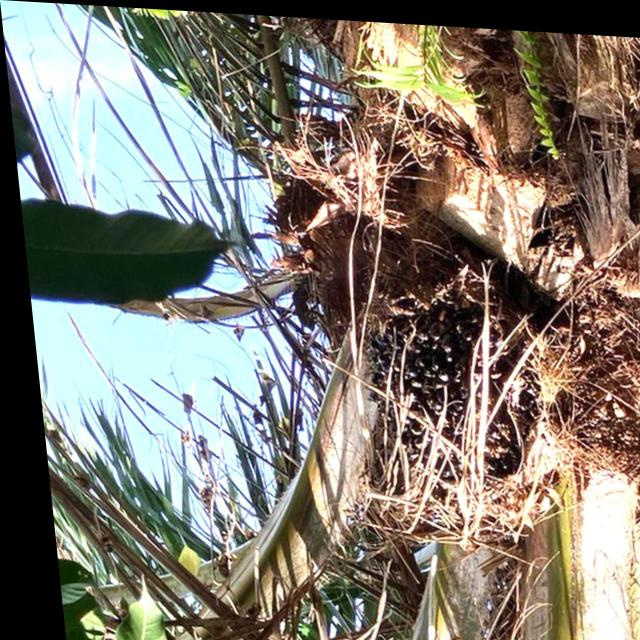unripe: (351, 264, 544, 512)
